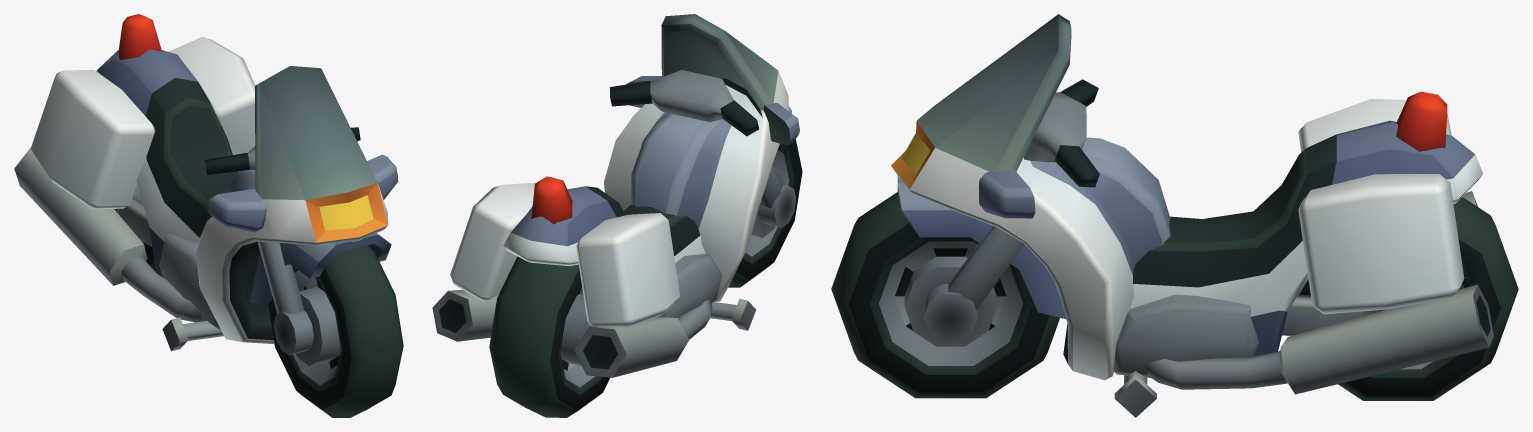
File: motorbike.fbx
3 renders of one model, left to right at view 1: azimuth 30°, elevation 25°; view 2: azimuth 150°, elevation 25°; view 3: azimuth 270°, elevation 25°, orthographic. The views are drawn at different scales.
Parts seen in each view (by area): view 1: motorbike, wheel_motorbike_front; view 2: motorbike, wheel_motorbike_back, wheel_motorbike_front; view 3: motorbike, wheel_motorbike_front, wheel_motorbike_back.
Part boxes in pixels (<box>): motorbike: <box>14,14,398,355</box>; wheel_motorbike_front: <box>268,245,403,417</box>; motorbike: <box>432,14,799,377</box>; wheel_motorbike_back: <box>489,256,609,417</box>; wheel_motorbike_front: <box>728,139,802,287</box>; motorbike: <box>891,14,1493,417</box>; wheel_motorbike_front: <box>831,192,1059,398</box>; wheel_motorbike_back: <box>1299,197,1518,400</box>.
Size of the model in its own units: 104 by 145 by 243.
Materials: 1 (1 with a texture image).
